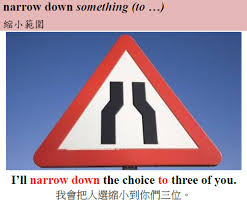Narrow_road: (32, 33, 226, 169)
